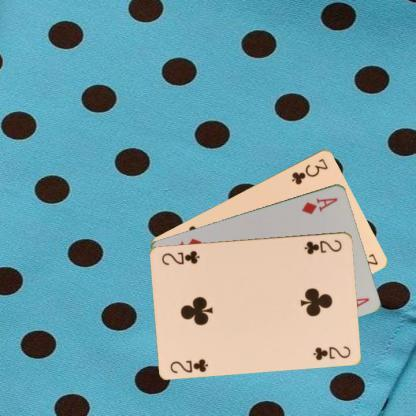2c: (168, 356, 210, 374), (302, 237, 343, 255)
3c: (288, 155, 330, 186)
Ad: (299, 194, 339, 216)
